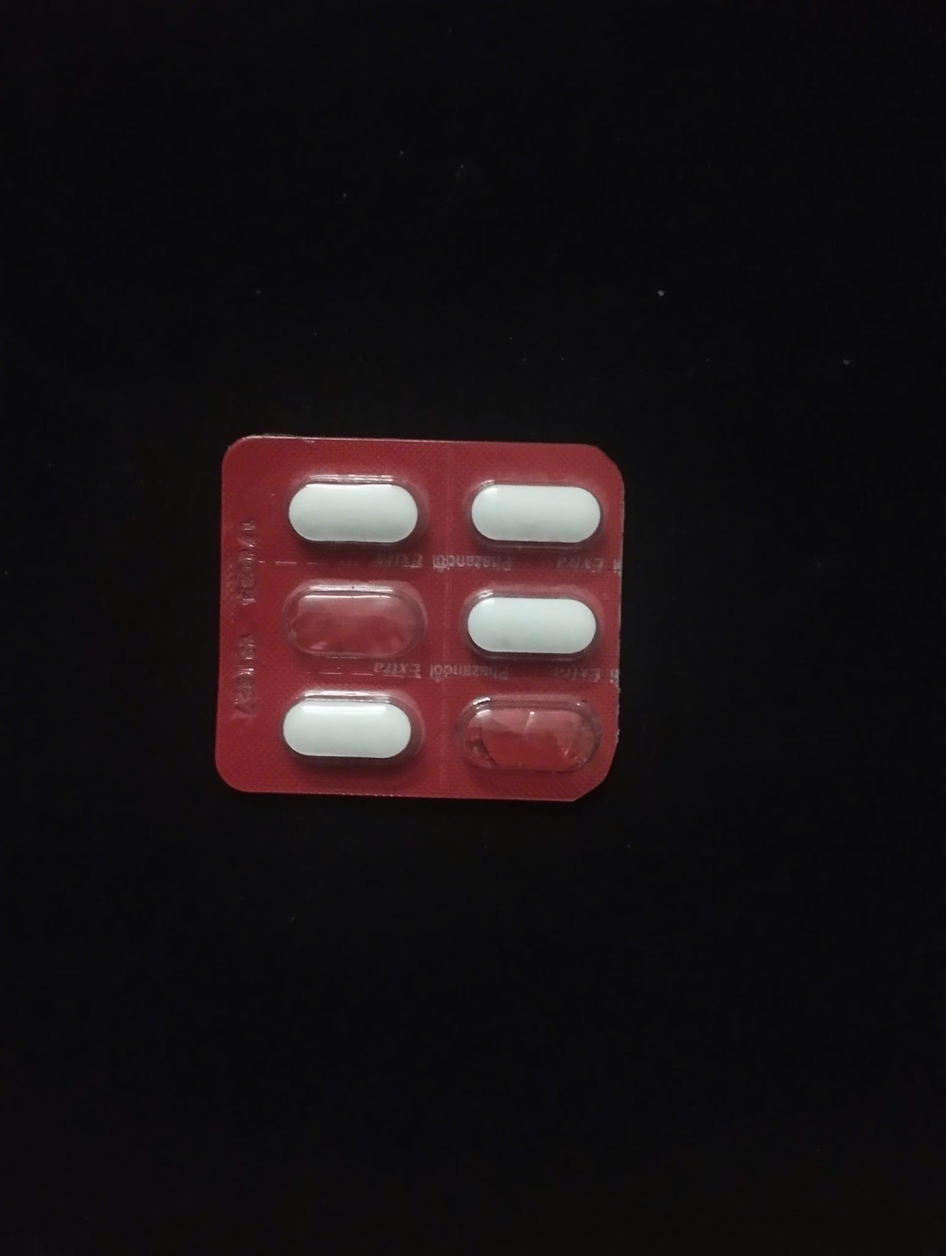Empty: (449, 687, 622, 783), (280, 575, 428, 663)
Full: (280, 469, 426, 547), (459, 474, 609, 547), (461, 589, 601, 663), (280, 692, 418, 765)
